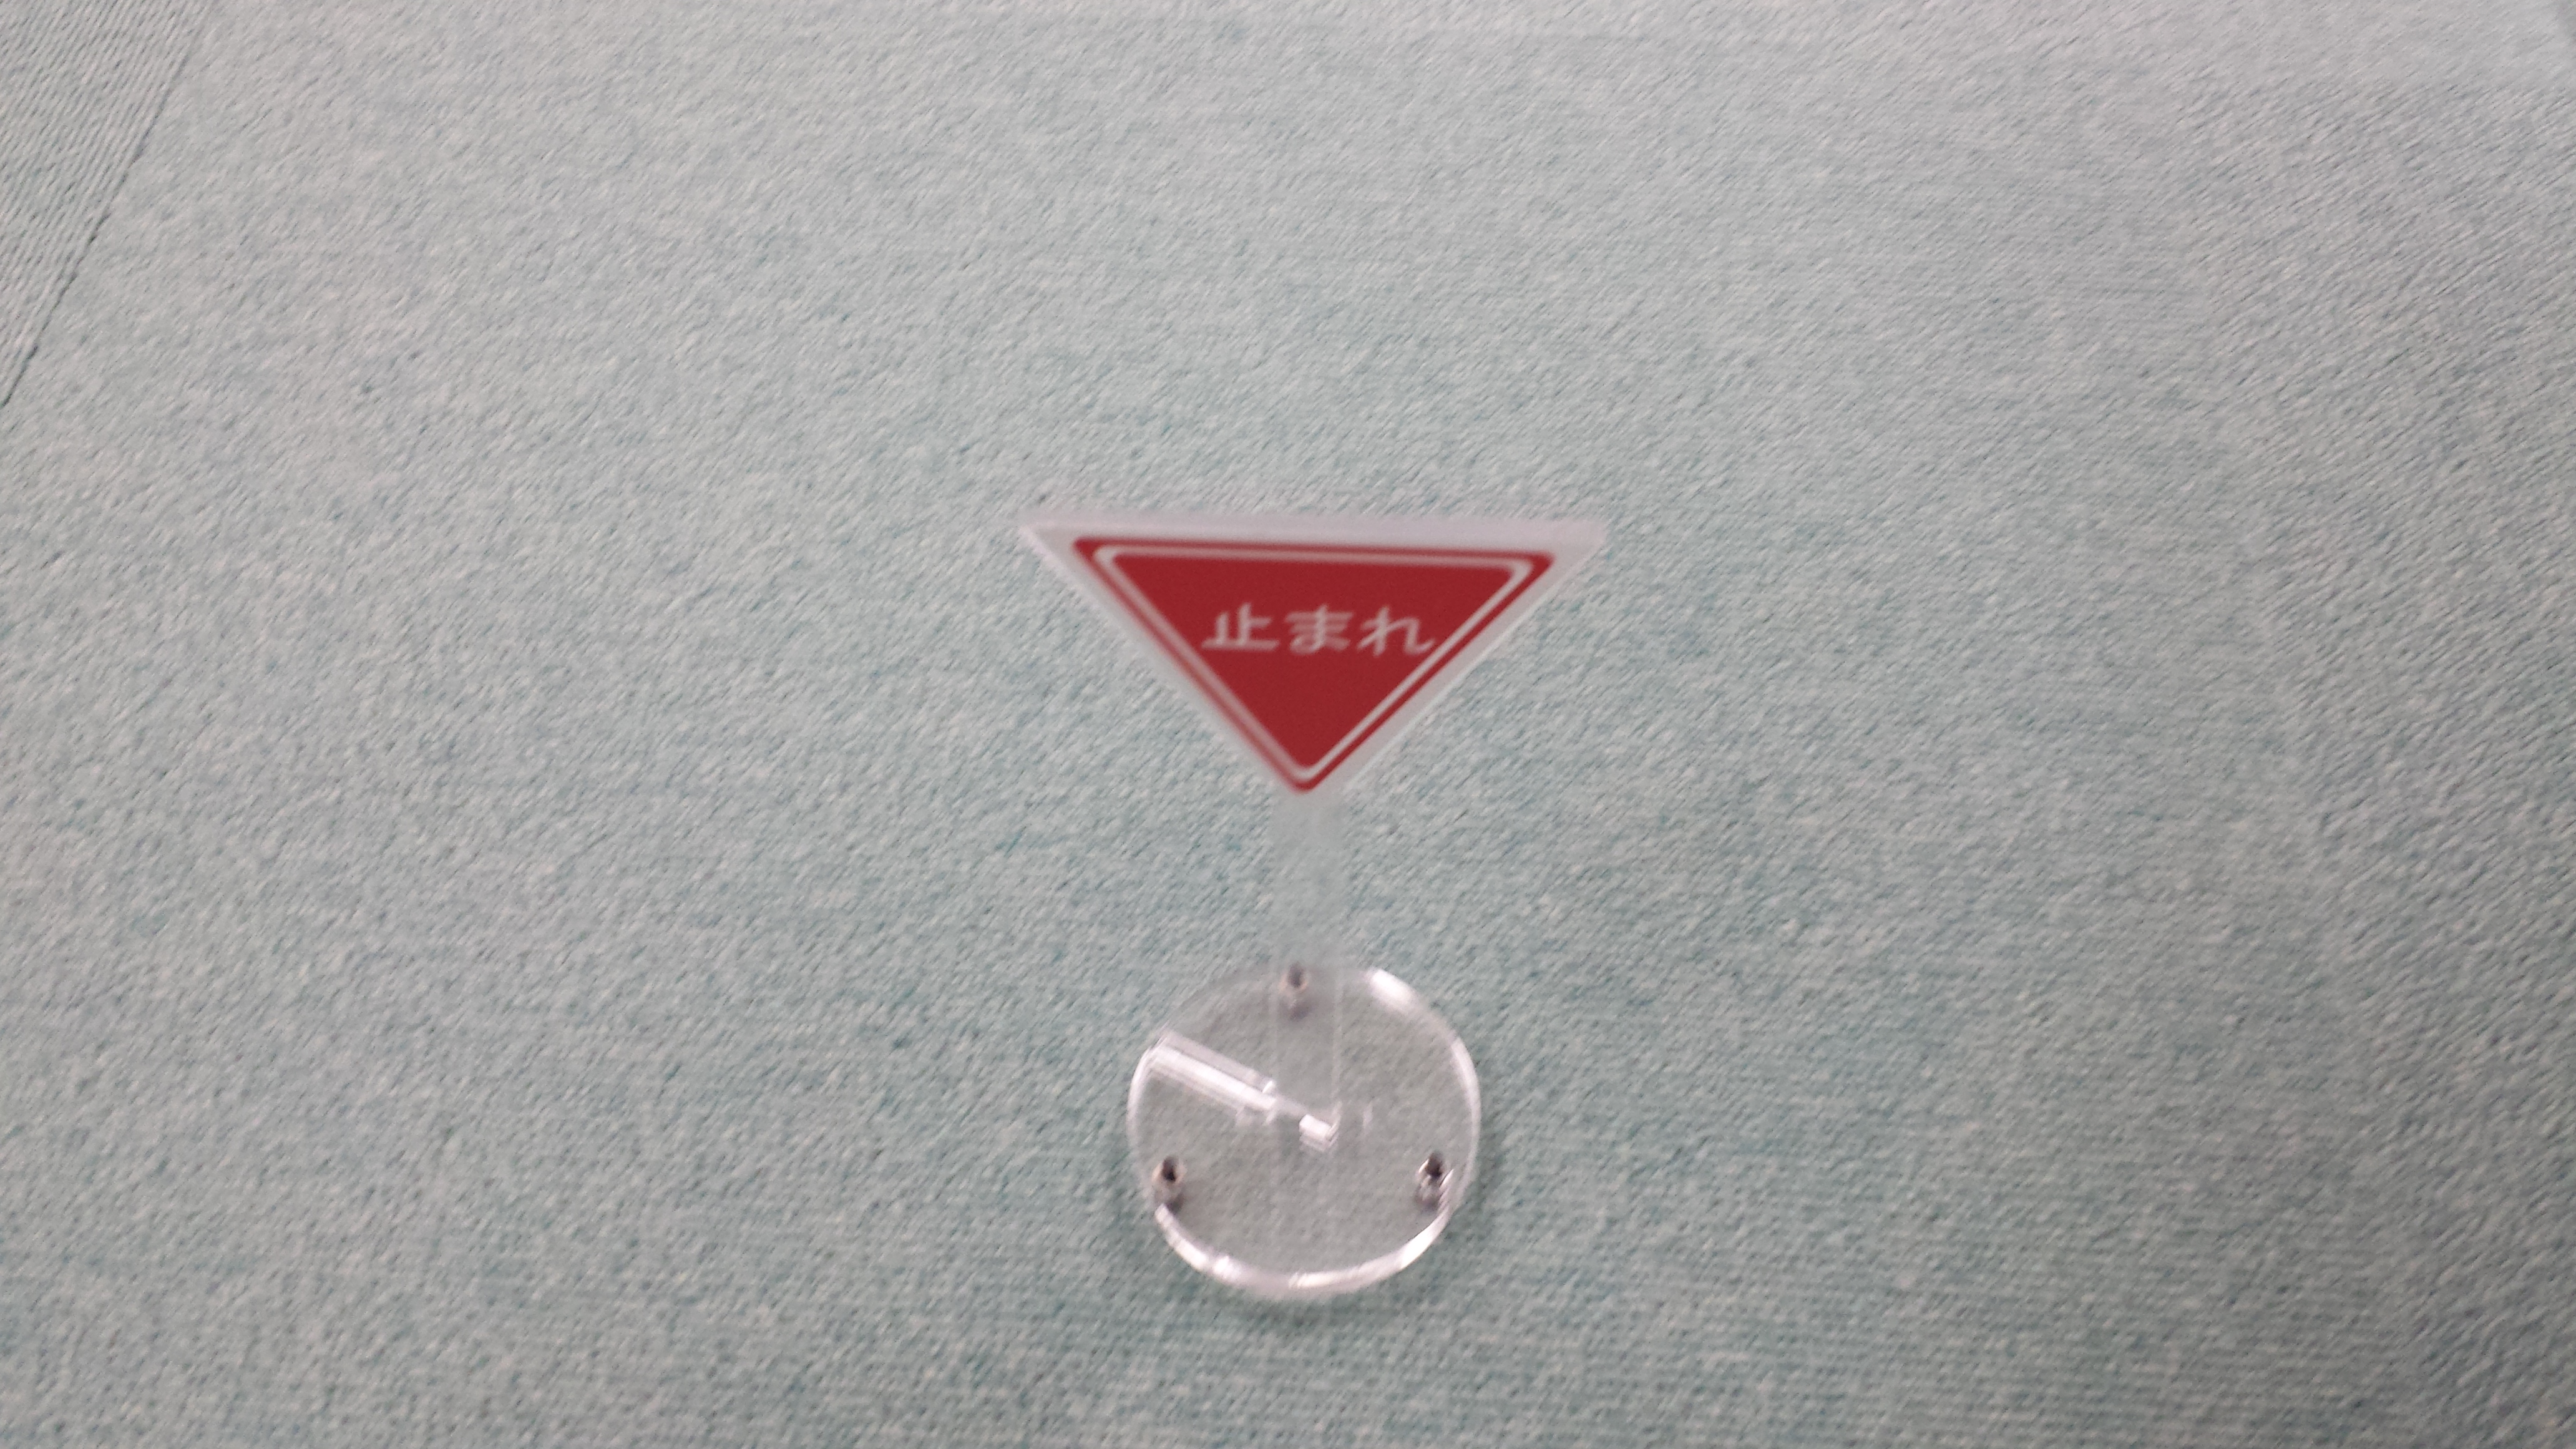stop: (1023, 522, 1610, 816)
